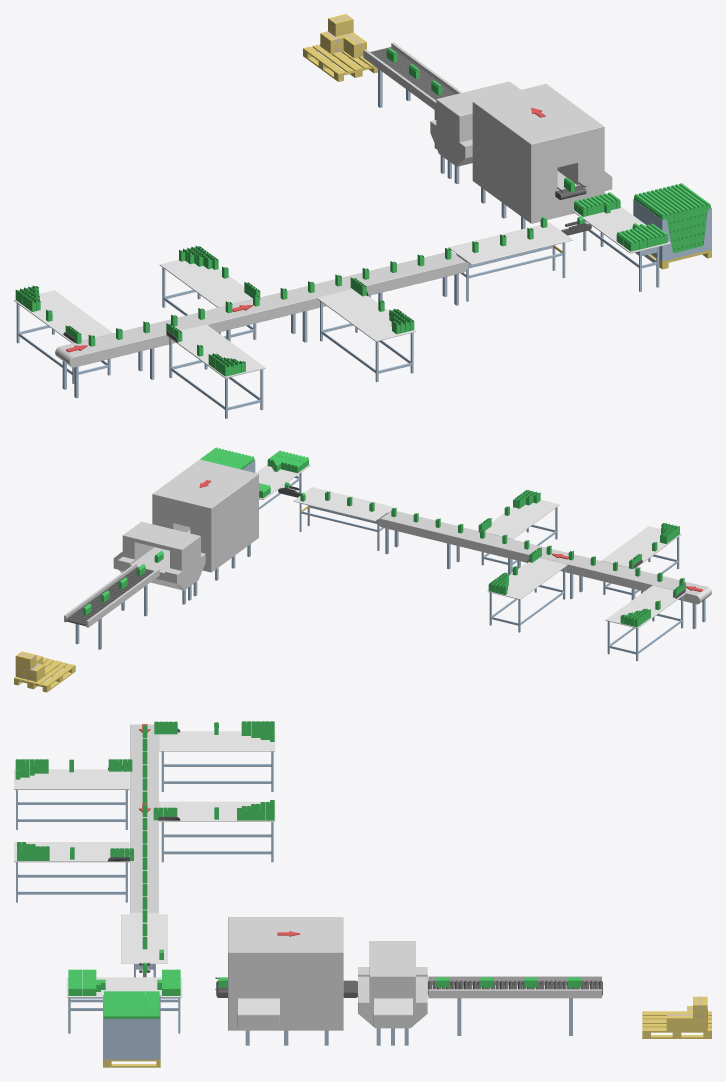
File: Assembly line.fbx
3 renders of one model, top to bottom at view 1: azimuth 30°, elevation 25°; view 2: azimuth 150°, elevation 25°; view 3: azimuth 270°, elevation 25°, orthographic. The views are drawn at different scales.
Parts seen in each view (by area): view 1: assembly.386, assembly.399, assembly.364, assembly.393, assembly.442, assembly.437, assembly.451, assembly.352, assembly.087, assembly.432, assembly.211; view 2: assembly.386, assembly.399, assembly.364, assembly.393, assembly.442, assembly.437, assembly.352, assembly.451, assembly.432, assembly.211, assembly.361; view 3: assembly.386, assembly.399, assembly.364, assembly.087, assembly.352, assembly.393, assembly.451, assembly.361, assembly.442, assembly.437, assembly.388, assembly.387 (+2 smaller).
Boxes of the visible parts, box(x1,y1,x2,y2) form: assembly.386: box(472, 84, 604, 223); assembly.399: box(55, 251, 468, 367); assembly.364: box(430, 81, 520, 166); assembly.393: box(448, 222, 572, 264); assembly.442: box(317, 289, 416, 341); assembly.437: box(159, 260, 252, 307); assembly.451: box(14, 290, 112, 343); assembly.352: box(166, 325, 265, 378); assembly.087: box(633, 199, 711, 261); assembly.432: box(571, 206, 670, 253); assembly.211: box(363, 49, 436, 110); assembly.386: box(152, 459, 258, 572); assembly.399: box(378, 510, 711, 604); assembly.364: box(118, 521, 205, 590); assembly.393: box(293, 487, 393, 521); assembly.442: box(485, 500, 559, 539); assembly.437: box(487, 557, 567, 599); assembly.352: box(601, 526, 681, 568); assembly.451: box(605, 585, 685, 628); assembly.432: box(256, 464, 310, 499); assembly.211: box(86, 569, 159, 627); assembly.361: box(64, 563, 136, 622); assembly.386: box(228, 917, 343, 1030); assembly.399: box(130, 724, 158, 914); assembly.364: box(358, 941, 427, 1028); assembly.087: box(103, 995, 160, 1059); assembly.352: box(14, 769, 129, 789); assembly.393: box(121, 914, 167, 963); assembly.451: box(159, 731, 275, 751); assembly.361: box(428, 989, 601, 998); assembly.442: box(14, 842, 129, 862); assembly.437: box(159, 801, 275, 821); assembly.388: box(237, 998, 279, 1026); assembly.387: box(373, 998, 412, 1026).
Bounding box in the file's own units: 1239 × 182 × 1207.
